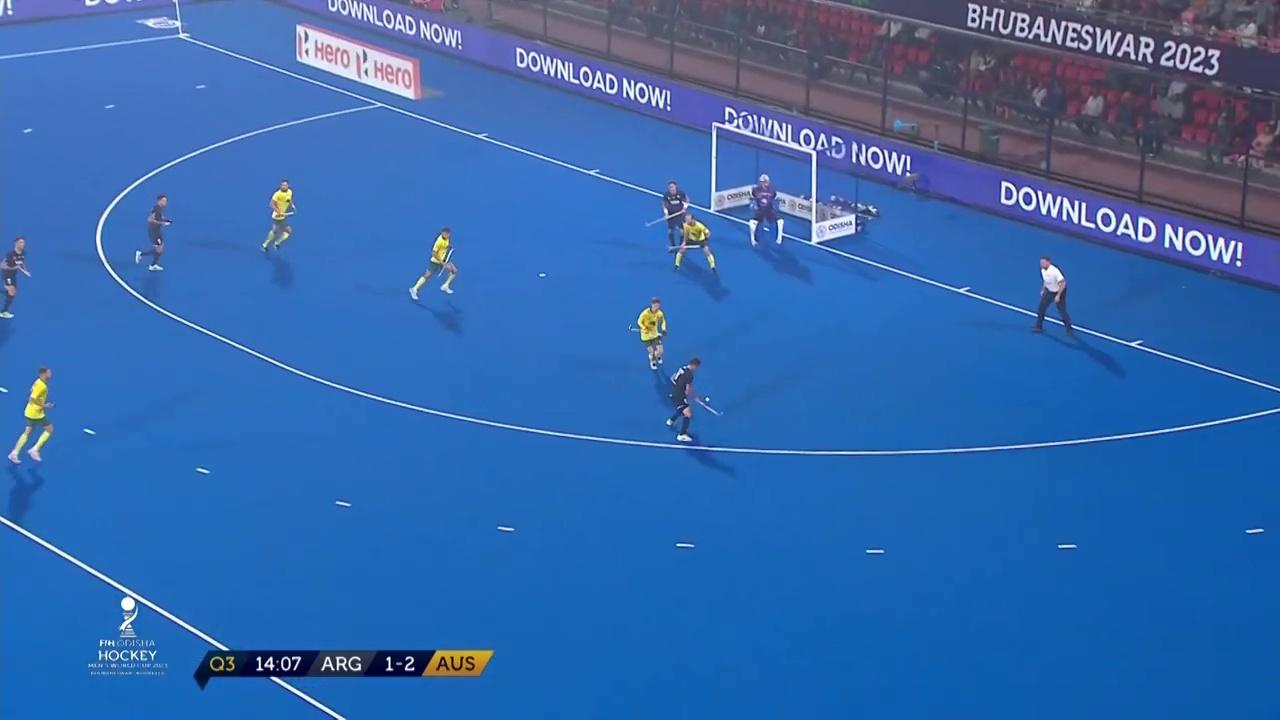ball: (697, 386, 715, 408)
